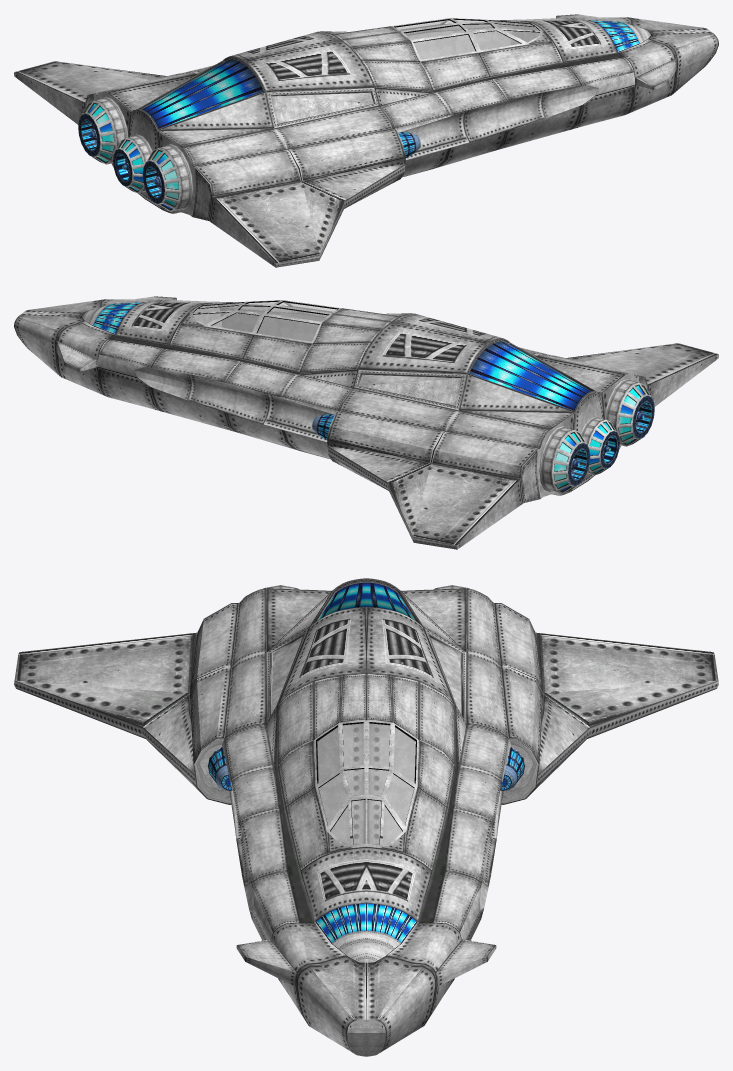
The model's file is shuttle.obj.
The picture shows the model from 3 angles, top to bottom: view 1: azimuth 30°, elevation 25°; view 2: azimuth 150°, elevation 25°; view 3: azimuth 270°, elevation 25°; orthographic projection. The views are drawn at different scales.
Bounding box in the file's own units: 16.01 × 3.41 × 12.46.
Materials: 6 (4 with a texture image).
